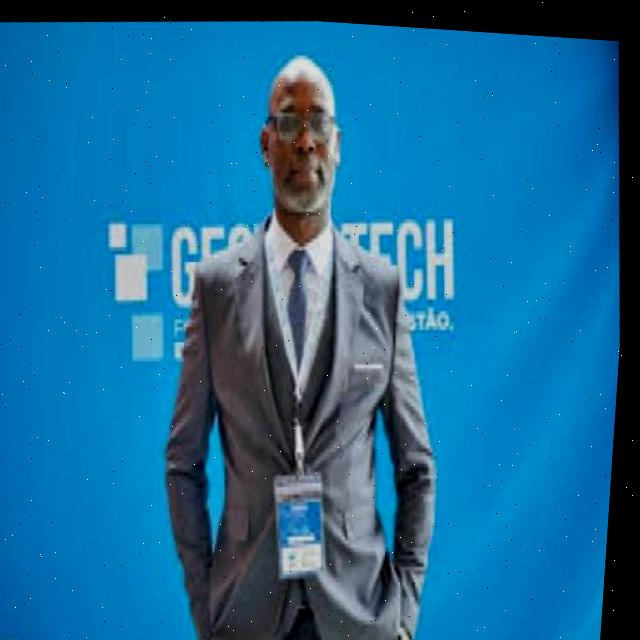id_card: (233, 228, 365, 582)
